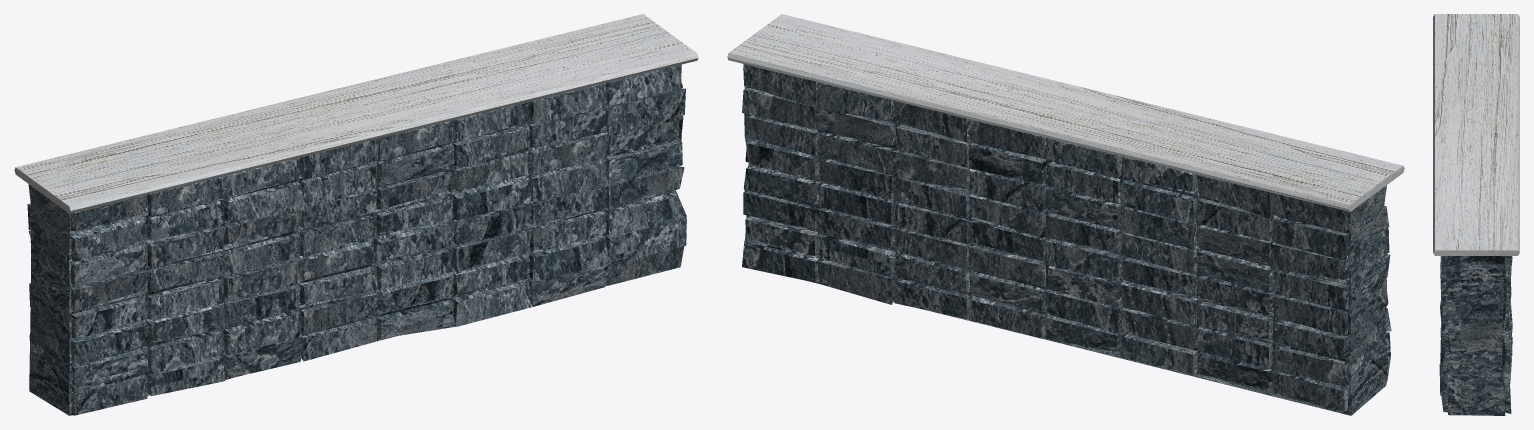
Rendered from Wall_Stones_B.fbx.
The picture shows the model from 3 angles, left to right: view 1: azimuth 30°, elevation 25°; view 2: azimuth 150°, elevation 25°; view 3: azimuth 270°, elevation 25°; orthographic projection. The views are drawn at different scales.
Parts seen in each view (by area): view 1: Wall_Stones_B_LOD0; view 2: Wall_Stones_B_LOD0; view 3: Wall_Stones_B_LOD0.
Part boxes in pixels (<box>): Wall_Stones_B_LOD0: <box>14,14,698,415</box>; Wall_Stones_B_LOD0: <box>727,14,1404,415</box>; Wall_Stones_B_LOD0: <box>1433,14,1519,415</box>.
Size of what is drawn, in the model's own units: 3077 by 1031 by 477.
